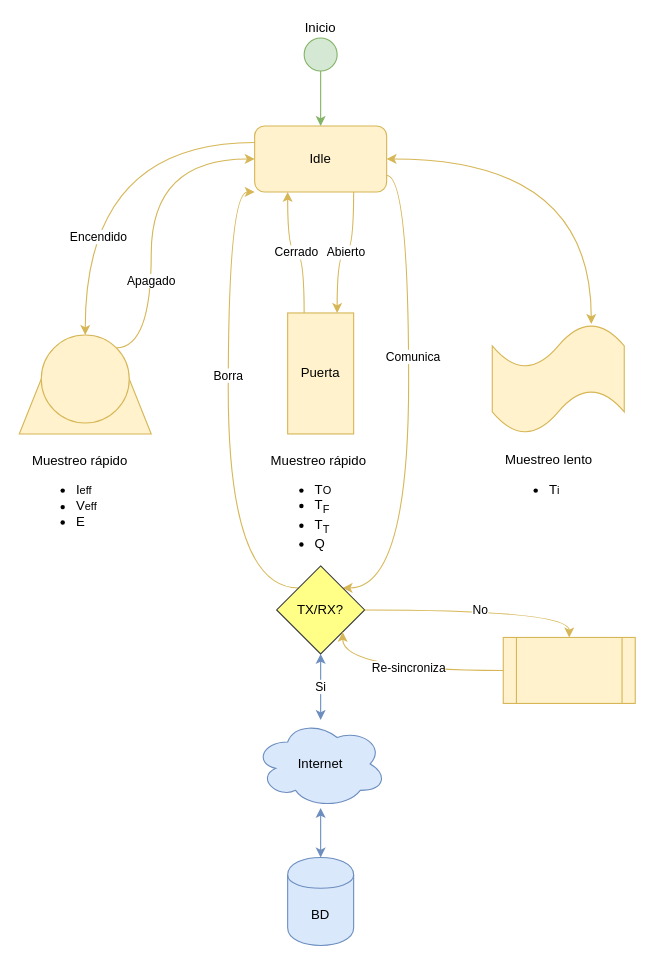
The diagram is 655 pixels wide and 965 high, and some of its shapes have lost their labels. The centre of each missing label's shape, as x and y in pixels:
"Consumo" belongs at (x=84, y=378).
"Local" belongs at (x=568, y=669).
"Temperatura" belongs at (x=557, y=378).
